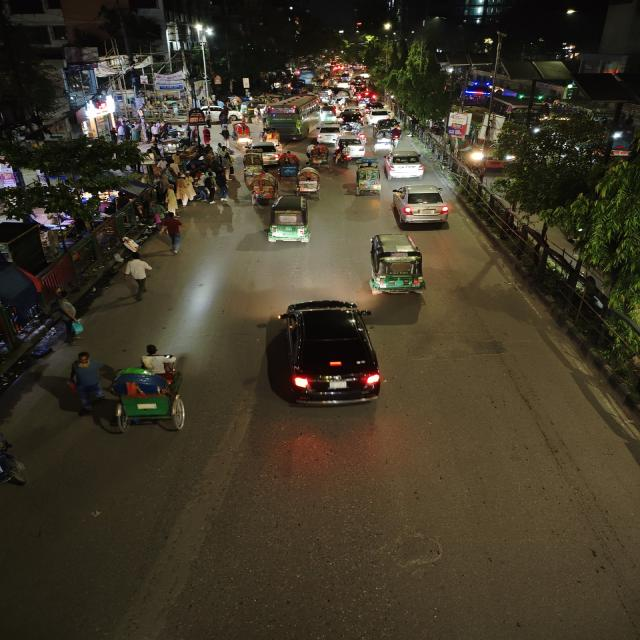bus: (262, 95, 320, 137)
car: (264, 296, 390, 412), (389, 182, 451, 228), (382, 149, 427, 179), (246, 142, 284, 164), (336, 136, 366, 158), (314, 125, 344, 143), (365, 105, 393, 121)
cng: (362, 231, 430, 299), (265, 194, 315, 248), (353, 161, 382, 197)
pedestrian: (62, 349, 109, 422), (118, 255, 158, 303), (52, 293, 87, 347), (159, 211, 187, 255), (175, 173, 196, 208), (144, 208, 163, 234), (196, 178, 214, 204), (221, 153, 237, 180)
rickshaw: (100, 342, 199, 436), (247, 170, 279, 204), (353, 162, 383, 197), (294, 168, 323, 196), (337, 136, 366, 160), (306, 143, 331, 167), (241, 152, 265, 176), (277, 152, 299, 178), (232, 122, 253, 146), (372, 129, 392, 151)
